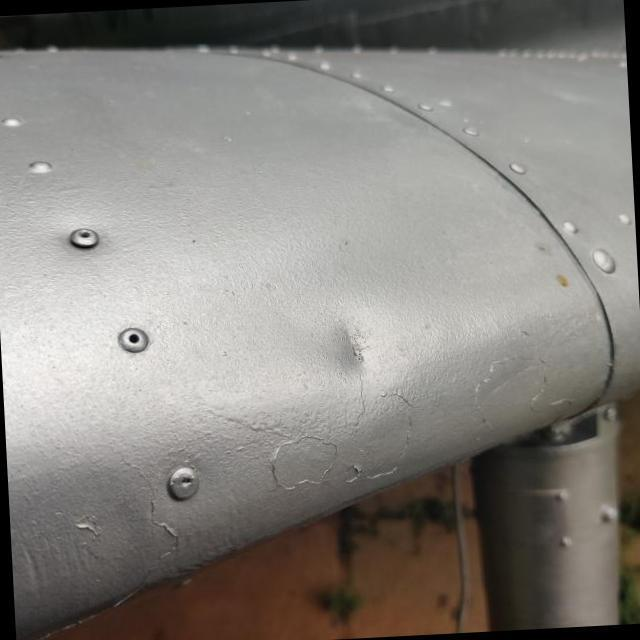Dent: (293, 294, 419, 418)
